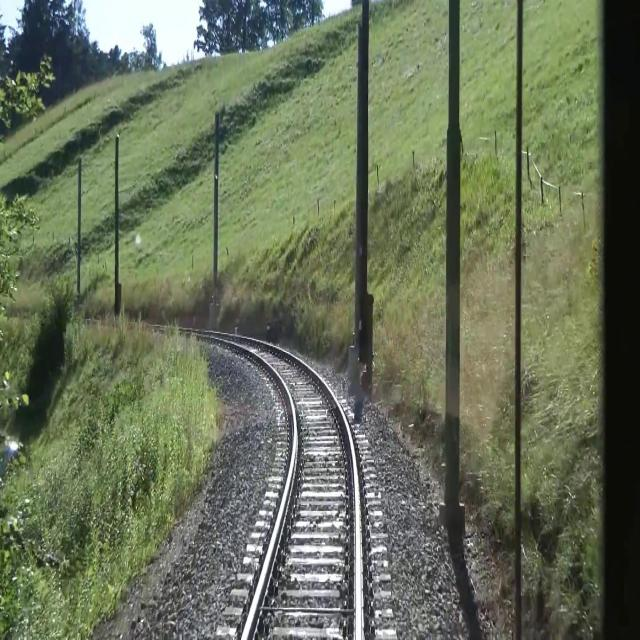rail-track: (230, 337, 355, 639)
